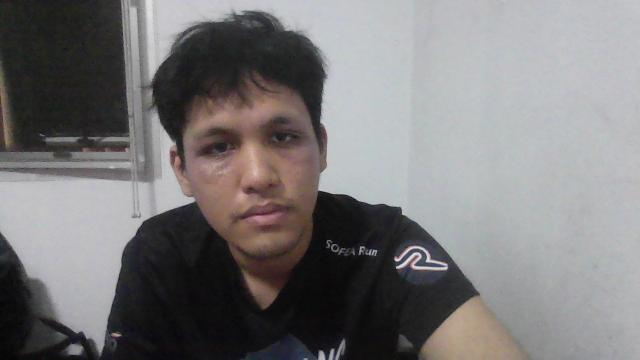fokus: (170, 61, 329, 256)
